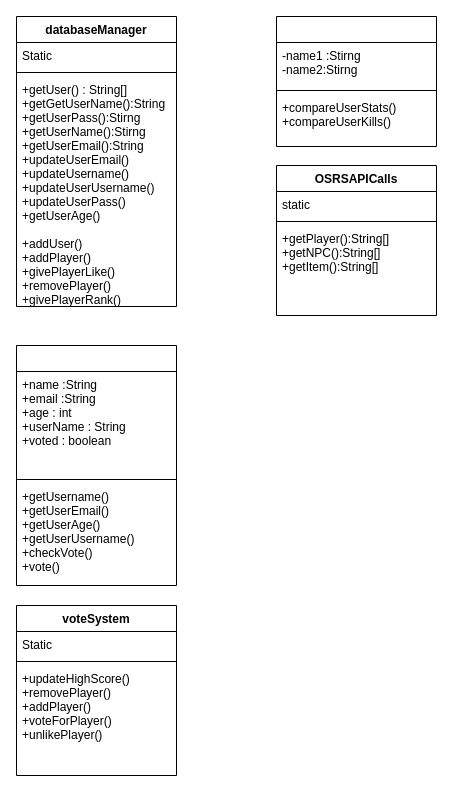
Some shapes in this 453 by 792 pixel diagram are drawn without their labels. Each missing label, with the box of its shape:
userComparison: (276, 16, 436, 146)
userHandler: (16, 344, 176, 586)
